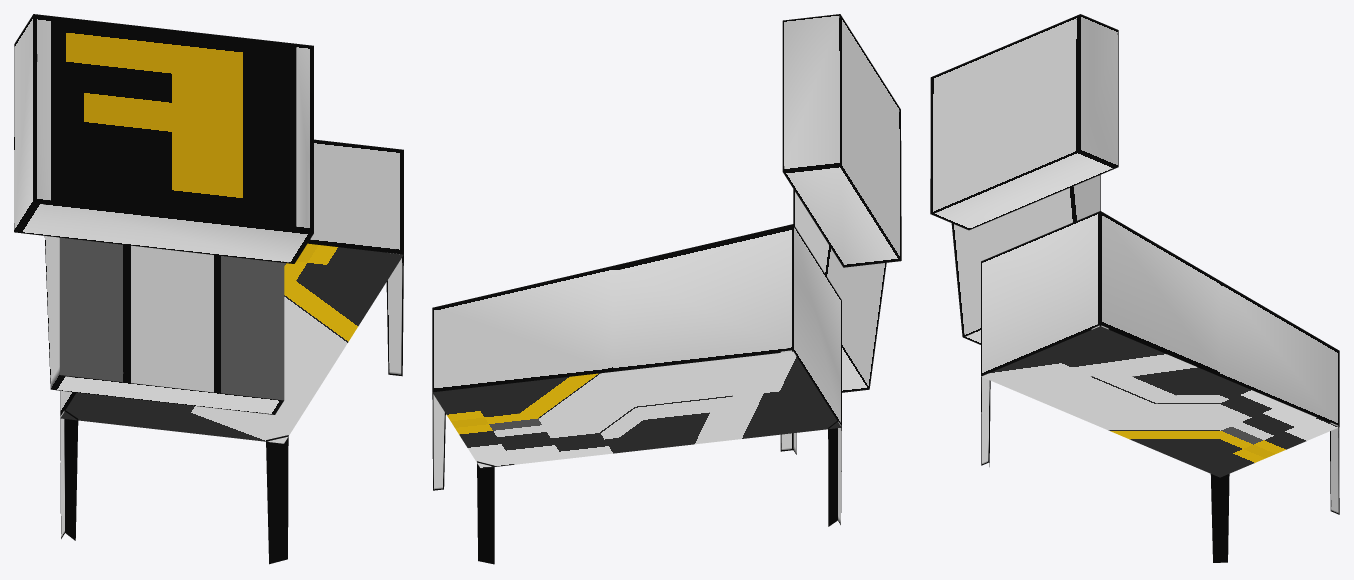
The model's file is ps2_save-icons_flipnic.glb.
The picture shows the model from 3 angles, left to right: view 1: azimuth 30°, elevation 25°; view 2: azimuth 150°, elevation 25°; view 3: azimuth 270°, elevation 25°; orthographic projection. The views are drawn at different scales.
Visible parts, largest first — view 1: FIcon.ico; view 2: FIcon.ico; view 3: FIcon.ico.
Part boxes in pixels (left/top/right/bottom): FIcon.ico: left=14, top=14, right=403, bottom=564; FIcon.ico: left=432, top=14, right=901, bottom=564; FIcon.ico: left=930, top=14, right=1339, bottom=562.
Bounding box in the file's own units: 3.62 × 3.71 × 3.62.
1 material, 1 textured.
